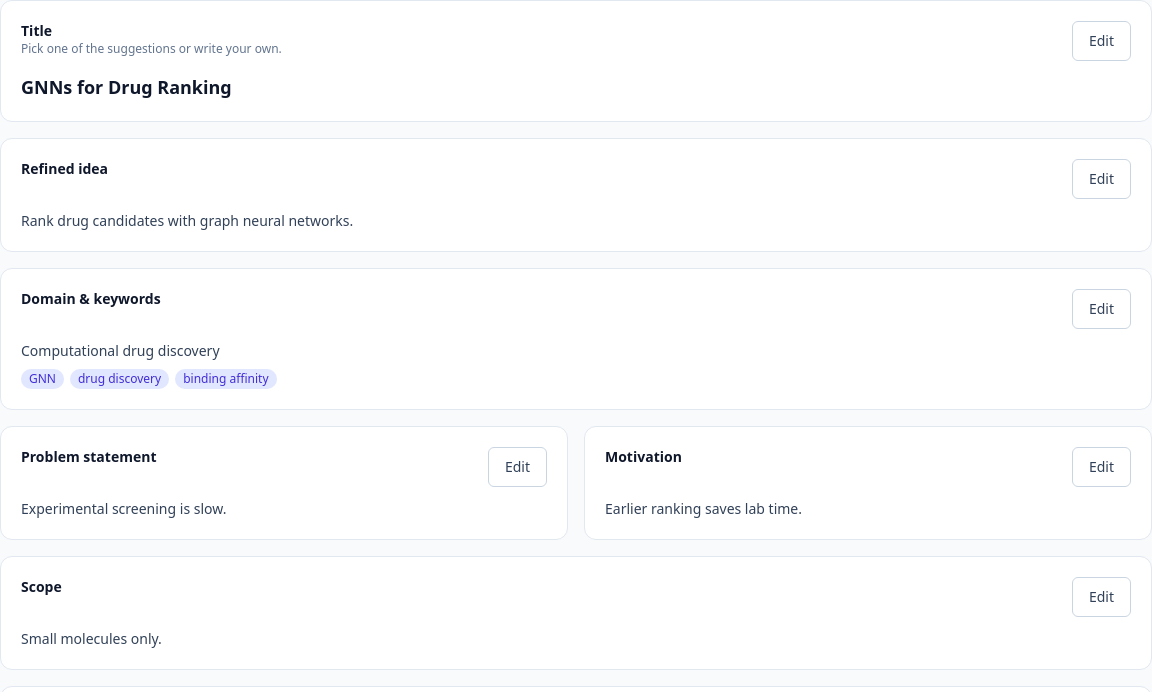
Test case: PlanCards › shows the server's validation message if saving fails
Click the button with aria-label "Edit Scope". click: (1101, 597)
box: [1072,577,1131,617]
(page scrolled)
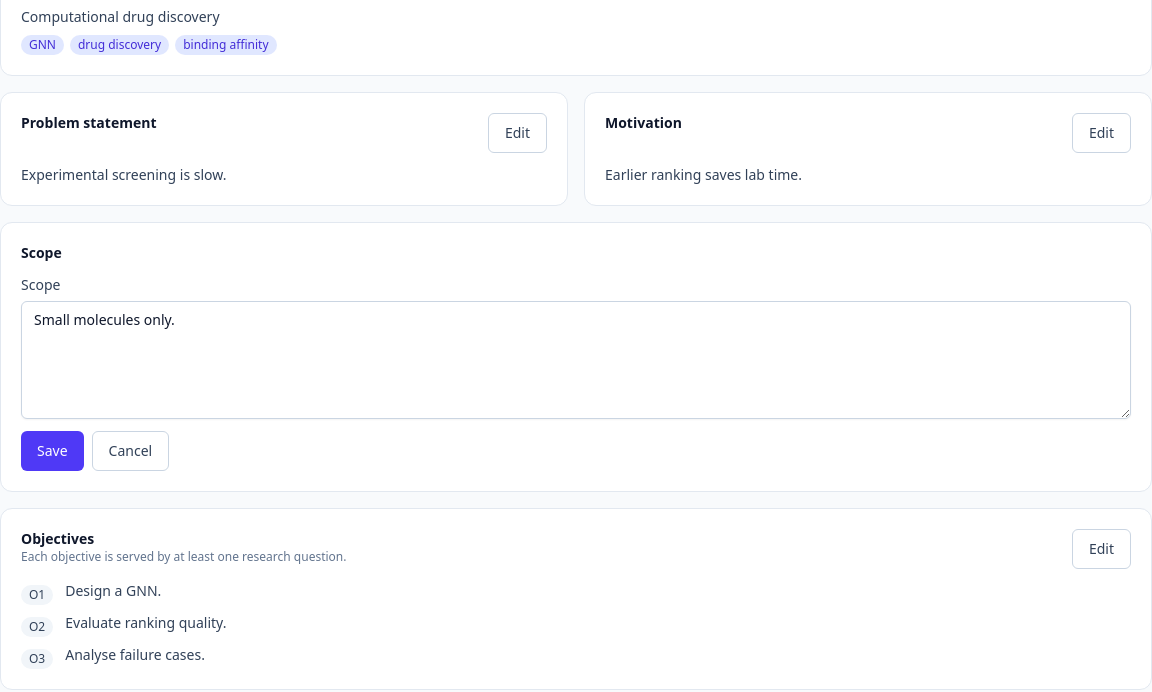
Type " Proteins excluded." into the text box. click: (576, 360)
box: [21,301,1131,419]
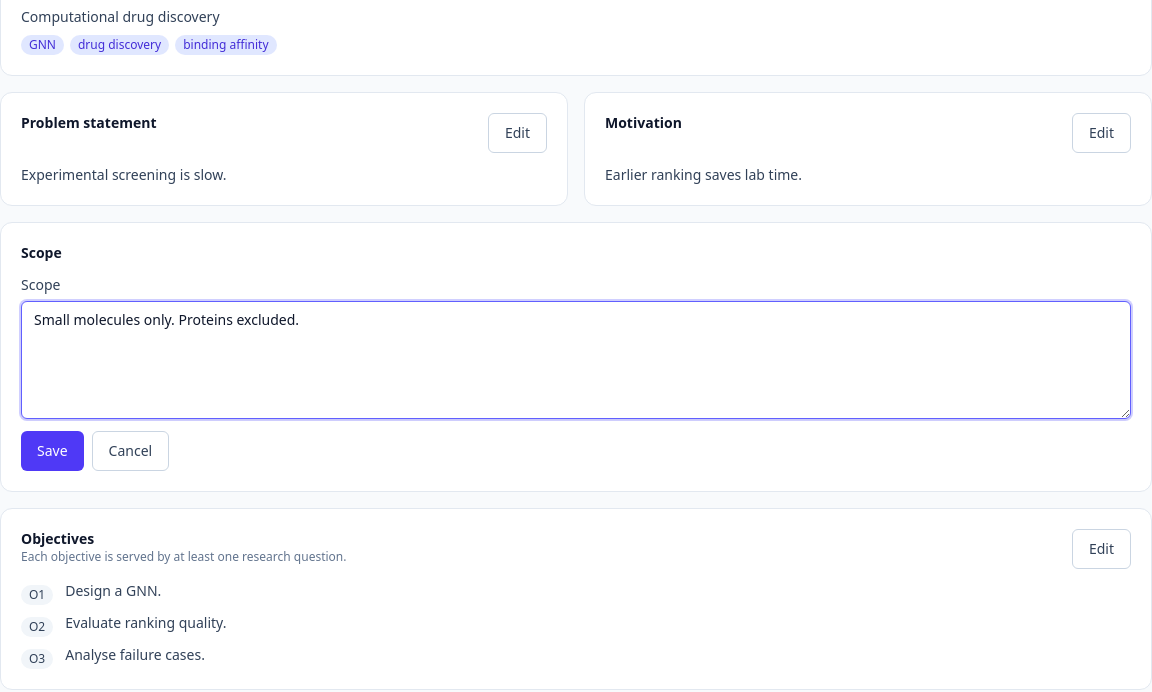
Click the button "Save". click: (52, 451)
box: [21,431,84,471]
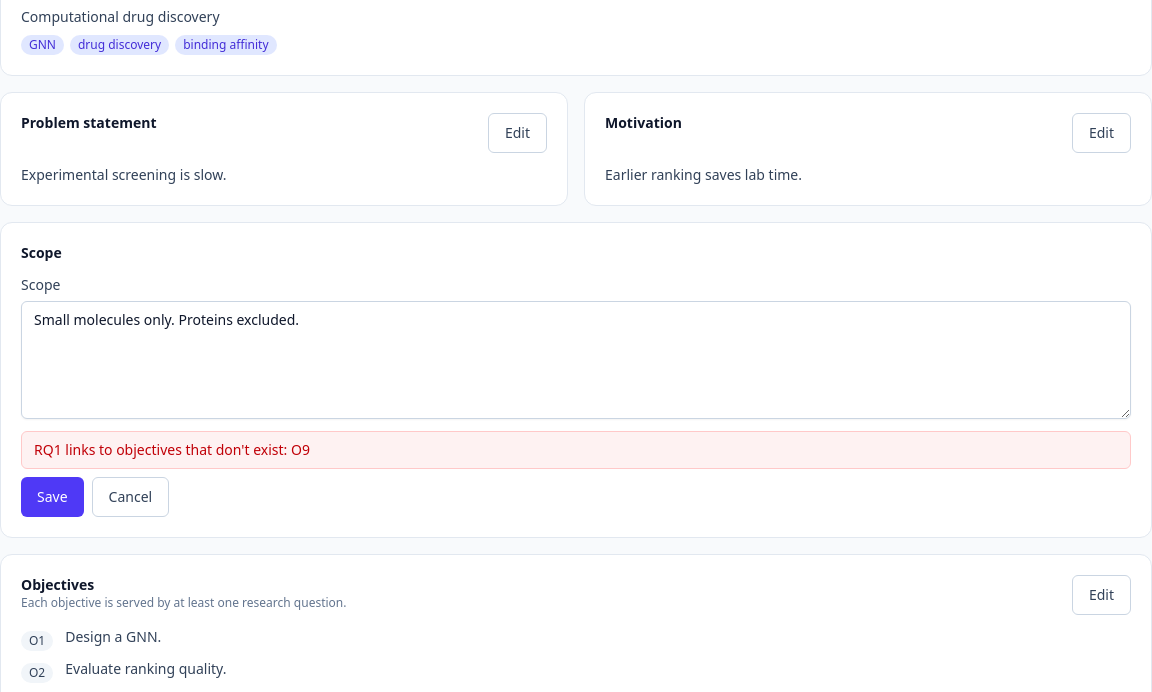
Expected: the message shows "don't exist: O9", [34,440,310,459]
